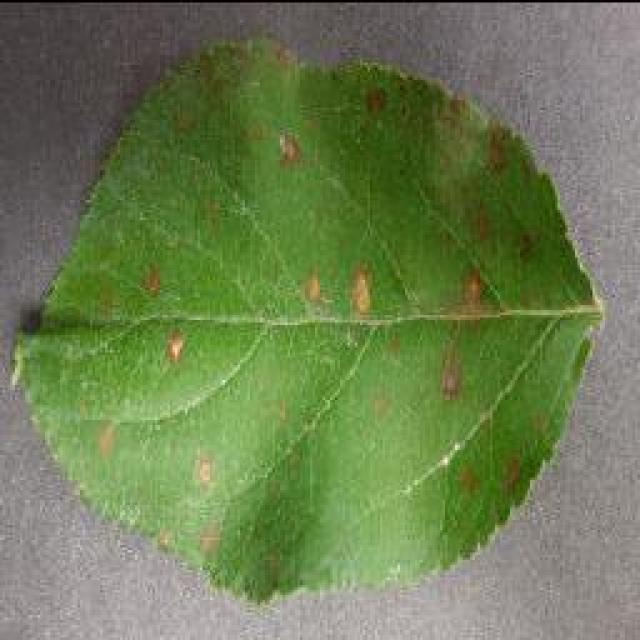apple scab disease: (7, 33, 605, 605)
